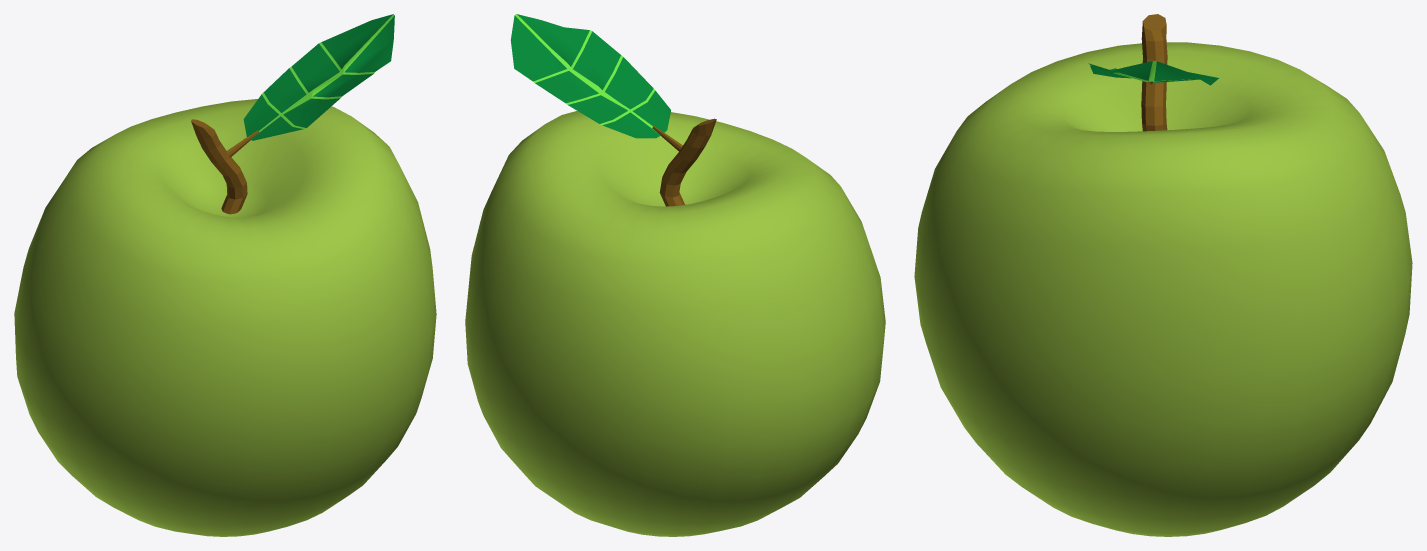
Rendered from scene_apfel.gltf.
The picture shows the model from 3 angles, left to right: view 1: azimuth 30°, elevation 25°; view 2: azimuth 150°, elevation 25°; view 3: azimuth 270°, elevation 25°; orthographic projection. The views are drawn at different scales.
Visible parts, largest first — view 1: Sphere, Plane, Cylinder; view 2: Sphere, Plane, Cylinder; view 3: Sphere, Cylinder, Plane.
Boxes of the visible parts, bbox=[...] form: Sphere: bbox=[14, 99, 436, 536]; Plane: bbox=[243, 14, 394, 140]; Cylinder: bbox=[191, 119, 247, 214]; Sphere: bbox=[465, 111, 885, 536]; Plane: bbox=[510, 14, 670, 138]; Cylinder: bbox=[659, 118, 716, 206]; Sphere: bbox=[914, 42, 1412, 536]; Cylinder: bbox=[1141, 14, 1167, 131]; Plane: bbox=[1088, 61, 1218, 85].
Size of the model in its own units: 1.99 by 2.43 by 2.01.
